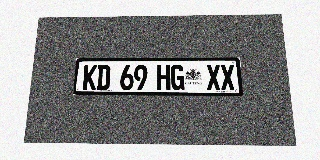6: (120, 65, 134, 90)
9: (134, 65, 147, 90)
D: (96, 65, 110, 90)
G: (171, 65, 184, 90)
H: (157, 65, 170, 90)
K: (83, 65, 97, 90)
X: (206, 64, 221, 90), (220, 64, 235, 90)
